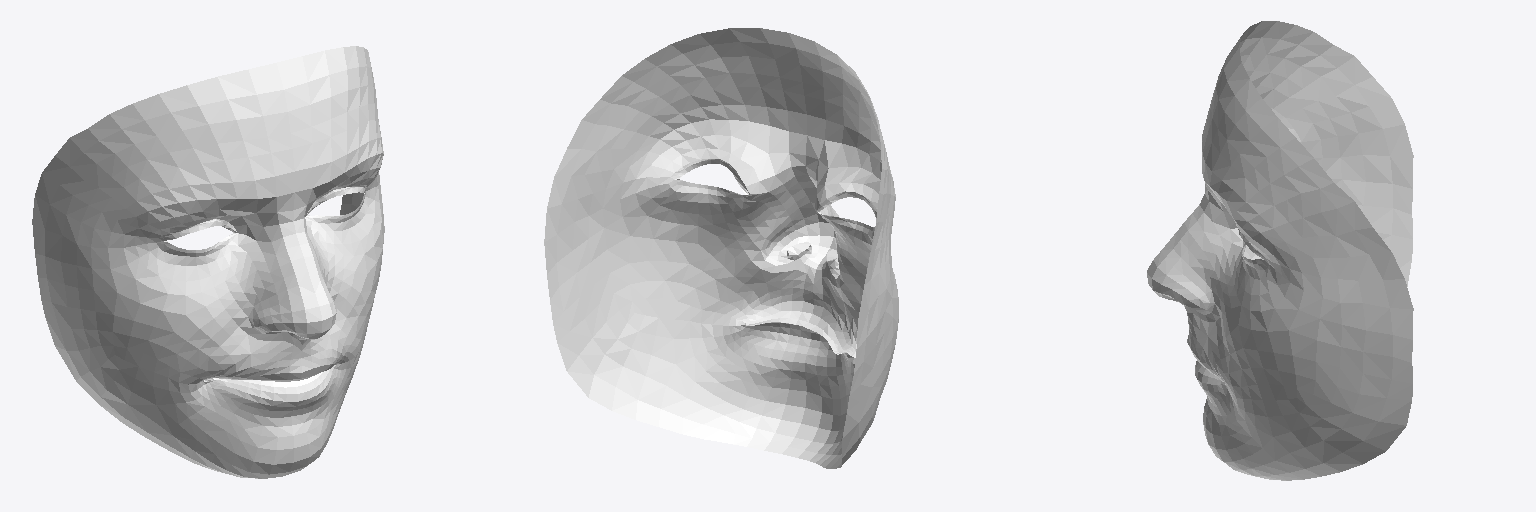
Rendered from mouthDimple_R.obj.
3 renders of one model, left to right at view 1: azimuth 30°, elevation 25°; view 2: azimuth 150°, elevation 25°; view 3: azimuth 270°, elevation 25°, orthographic.
Parts seen in each view (by area): view 1: default; view 2: default; view 3: default.
Boxes of the visible parts, box(x1,y1,x2,y2) form: default: box(32, 46, 384, 478); default: box(544, 28, 898, 468); default: box(1147, 21, 1413, 480).
Bounding box in the file's own units: 0.1447 × 0.1816 × 0.1055.